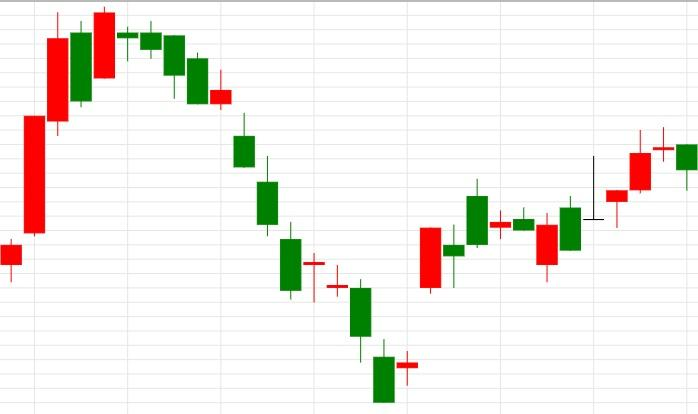evening_star_fall: (536, 128, 698, 282)
